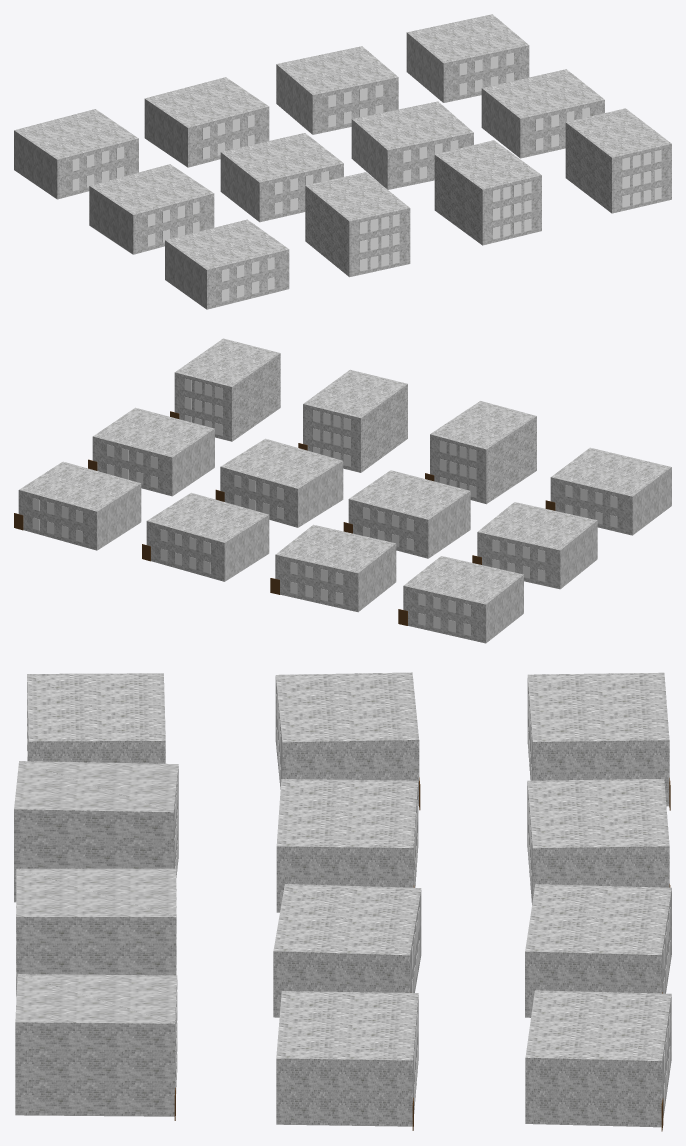
Rendered from bld_mlnebb8w_ftf0fzo.glb.
3 views of the same model, one above another, from view 1: azimuth 30°, elevation 25°; view 2: azimuth 150°, elevation 25°; view 3: azimuth 270°, elevation 25° (orthographic). The views are drawn at different scales.
Visible parts, largest first — view 1: building-building-1771138800566-13, building-building-1771138800566-14, building-building-1771138800566-12, building-building-1771138800566-11, building-building-1771138800566-6, building-building-1771138800566-2, building-building-1771138800566-1, building-building-1771138800566-4, building-building-1771138800566-3, building-building-1771138800566-7, building-building-1771138800566-9, building-building-1771138800566-8; view 2: building-building-1771138800566-3, building-building-1771138800566-4, building-building-1771138800566-12, building-building-1771138800566-2, building-building-1771138800566-1, building-building-1771138800566-14, building-building-1771138800566-13, building-building-1771138800566-8, building-building-1771138800566-9, building-building-1771138800566-11, building-building-1771138800566-7, building-building-1771138800566-6; view 3: building-building-1771138800566-14, building-building-1771138800566-4, building-building-1771138800566-9, building-building-1771138800566-12, building-building-1771138800566-13, building-building-1771138800566-8, building-building-1771138800566-3, building-building-1771138800566-6, building-building-1771138800566-7, building-building-1771138800566-1, building-building-1771138800566-2, building-building-1771138800566-11.
Boxes of the visible parts, x1,y1,x2,y2 form: building-building-1771138800566-13: (434,140,541,245); building-building-1771138800566-14: (565,108,671,213); building-building-1771138800566-12: (305,172,410,277); building-building-1771138800566-11: (165,219,289,309); building-building-1771138800566-6: (89,164,214,254); building-building-1771138800566-2: (144,77,269,167); building-building-1771138800566-1: (14,109,138,199); building-building-1771138800566-4: (406,14,529,102); building-building-1771138800566-3: (276,46,398,134); building-building-1771138800566-7: (220,133,343,222); building-building-1771138800566-9: (481,69,604,158); building-building-1771138800566-8: (351,101,473,189); building-building-1771138800566-3: (142,492,269,581); building-building-1771138800566-4: (14,461,141,550); building-building-1771138800566-12: (425,401,536,504); building-building-1771138800566-2: (270,524,396,612); building-building-1771138800566-1: (398,556,523,643); building-building-1771138800566-14: (170,338,280,441); building-building-1771138800566-13: (298,369,407,472); building-building-1771138800566-8: (215,438,343,527); building-building-1771138800566-9: (88,407,214,496); building-building-1771138800566-11: (545,447,671,535); building-building-1771138800566-7: (343,470,470,558); building-building-1771138800566-6: (472,502,597,589); building-building-1771138800566-14: (15,974,177,1120); building-building-1771138800566-4: (525,990,671,1131); building-building-1771138800566-9: (276,991,418,1130); building-building-1771138800566-12: (14,761,178,902); building-building-1771138800566-13: (16,868,176,996); building-building-1771138800566-8: (273,884,421,1017); building-building-1771138800566-3: (525,884,671,1017); building-building-1771138800566-6: (275,672,420,810); building-building-1771138800566-7: (276,779,418,912); building-building-1771138800566-1: (527,672,670,810); building-building-1771138800566-2: (527,779,670,904); building-building-1771138800566-11: (27,673,165,763).
Bounding box in the file's own units: 81.39 × 9.03 × 57.65.
Materials: 60 (12 with a texture image).
